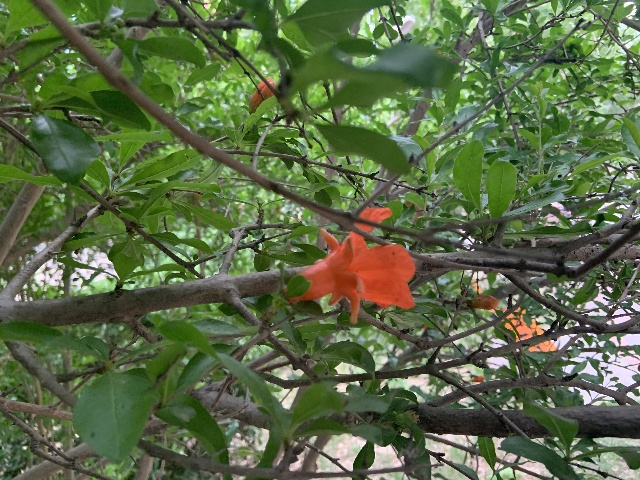bud: (249, 77, 277, 112), (467, 294, 498, 310), (472, 376, 484, 383)
flower: (286, 206, 417, 324)
